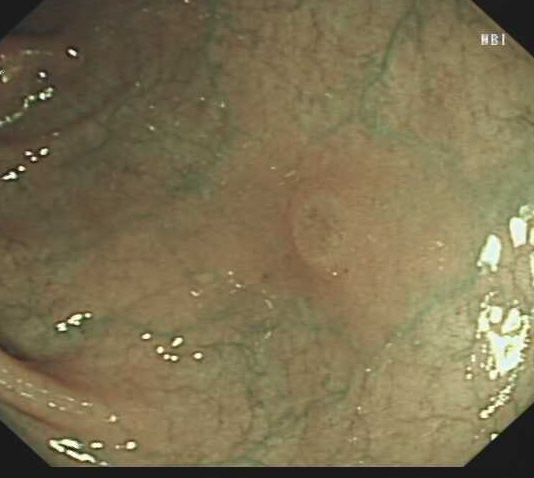others: (283, 183, 351, 277)
